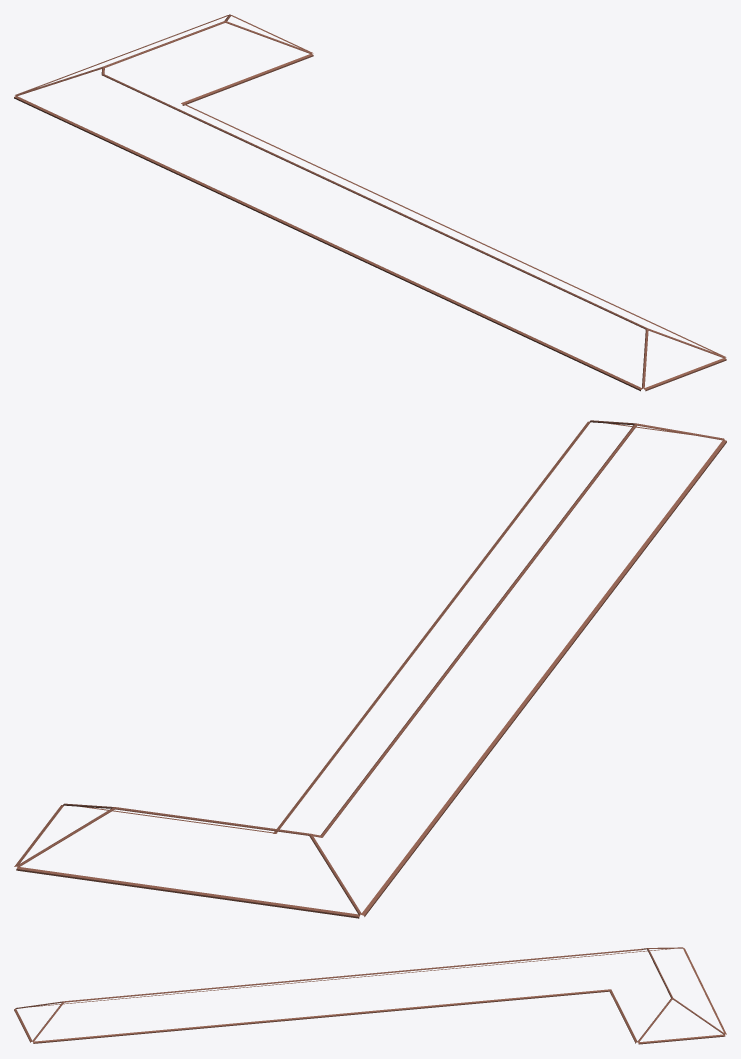
The picture shows the model from 3 angles, top to bottom: view 1: azimuth 30°, elevation 25°; view 2: azimuth 150°, elevation 25°; view 3: azimuth 270°, elevation 25°; orthographic projection. The views are drawn at different scales.
Visible parts, largest first — view 1: detail; view 2: detail; view 3: detail.
Boxes of the visible parts, bbox=[...] form: detail: bbox=[14, 14, 726, 391]; detail: bbox=[14, 420, 726, 918]; detail: bbox=[14, 947, 726, 1044].
Bounding box in the file's own units: 32.48 × 3.92 × 102.
